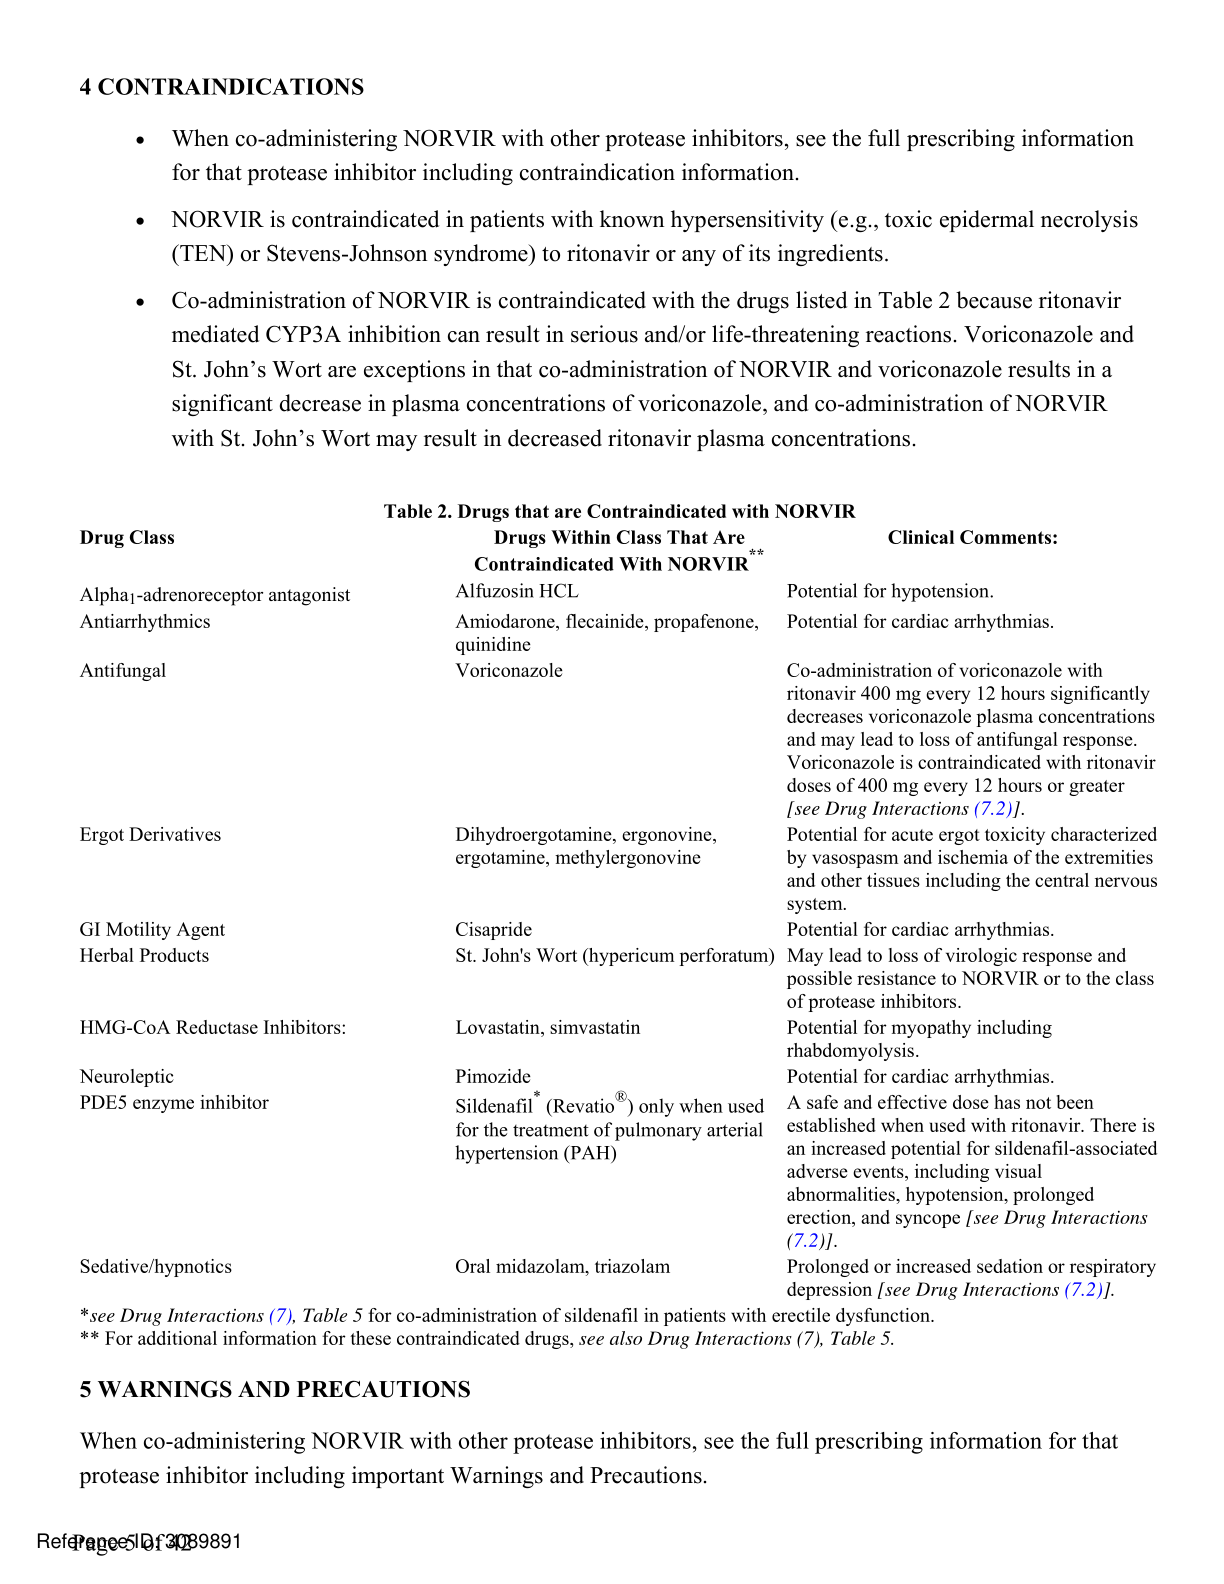nolines: (75, 525, 1165, 1304)
